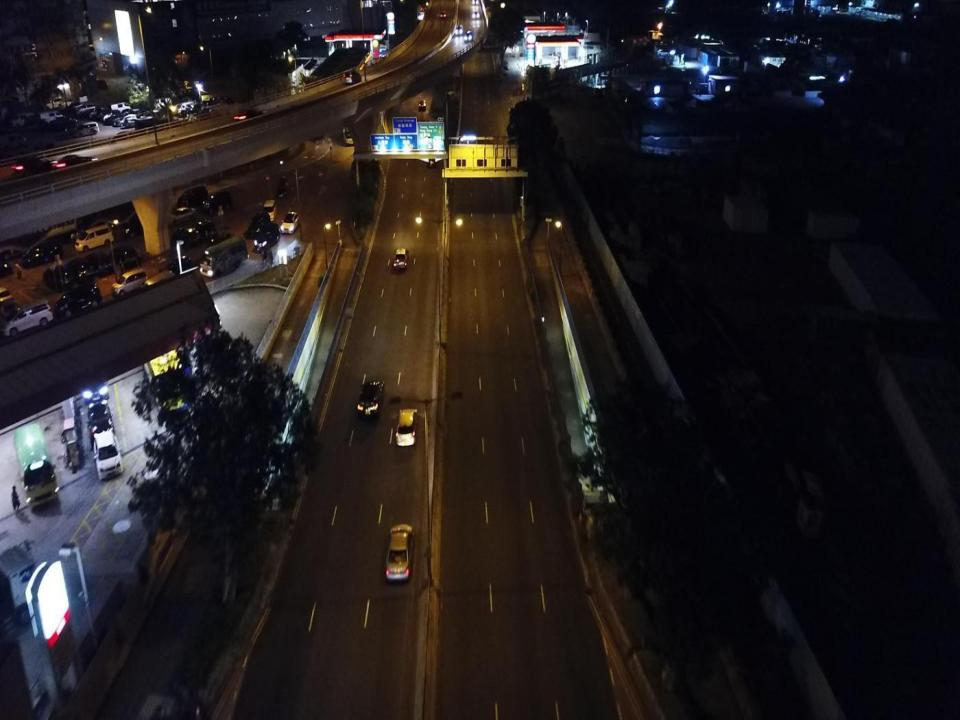bus: (143, 322, 188, 415), (13, 422, 59, 508), (200, 235, 248, 278), (342, 104, 359, 146)
car: (386, 525, 413, 581), (94, 432, 124, 481), (357, 372, 384, 417), (82, 357, 109, 401), (87, 401, 115, 438), (394, 406, 418, 446), (13, 156, 54, 176), (44, 265, 74, 291), (173, 225, 203, 249), (188, 218, 218, 242), (64, 259, 94, 283), (53, 154, 98, 170), (202, 192, 232, 214), (85, 251, 113, 274), (110, 244, 138, 266), (167, 206, 196, 224), (281, 211, 299, 234), (393, 246, 408, 270), (55, 115, 78, 130), (182, 104, 200, 119), (278, 178, 288, 198), (658, 48, 669, 58), (464, 29, 472, 42), (456, 24, 464, 36), (554, 59, 562, 67), (419, 99, 426, 108), (472, 12, 480, 19), (440, 10, 446, 19), (552, 57, 558, 63)
truck: (0, 542, 46, 626)
van: (0, 297, 53, 335), (57, 281, 102, 319), (22, 239, 63, 268), (122, 212, 162, 238), (75, 225, 114, 251), (111, 270, 148, 296), (142, 271, 177, 295), (253, 223, 280, 248), (177, 185, 208, 206), (166, 255, 193, 277), (246, 211, 270, 235), (0, 286, 16, 317), (234, 108, 266, 122), (1, 134, 26, 148), (74, 122, 99, 136), (263, 199, 277, 222), (40, 110, 64, 122), (42, 96, 64, 109), (10, 114, 31, 127), (344, 70, 362, 84), (110, 102, 131, 114), (114, 114, 136, 125), (154, 98, 172, 111), (176, 102, 195, 114), (77, 104, 95, 116), (426, 147, 436, 168), (125, 118, 141, 128), (500, 59, 508, 74)
